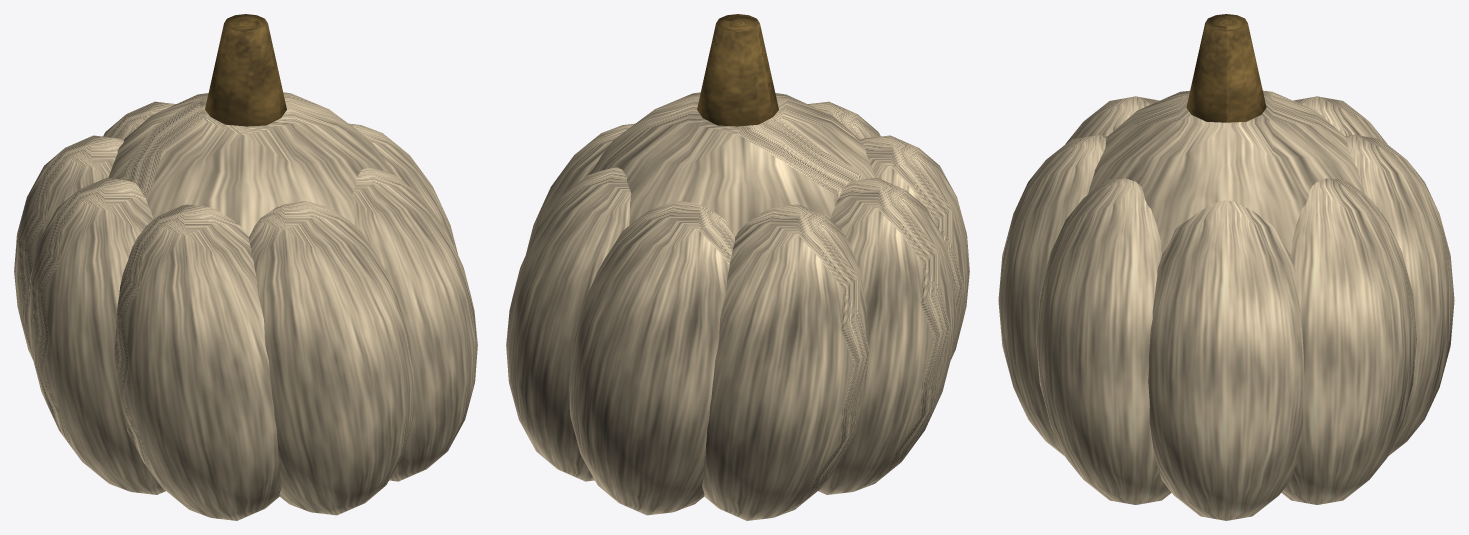
File: garlic.glb
3 views of the same model, side by side, from view 1: azimuth 30°, elevation 25°; view 2: azimuth 150°, elevation 25°; view 3: azimuth 270°, elevation 25° (orthographic). The views are drawn at different scales.
Parts seen in each view (by area): view 1: garlic, dry; view 2: garlic, dry; view 3: garlic, dry.
Part boxes in pixels (<box>): garlic: <box>14,92,477,520</box>; dry: <box>205,14,286,126</box>; garlic: <box>506,92,969,520</box>; dry: <box>697,14,778,126</box>; garlic: <box>998,90,1454,520</box>; dry: <box>1186,14,1266,122</box>.
Size of the model in its own units: 0.0645 by 0.0666 by 0.064.
Materials: 2 (2 with a texture image).
